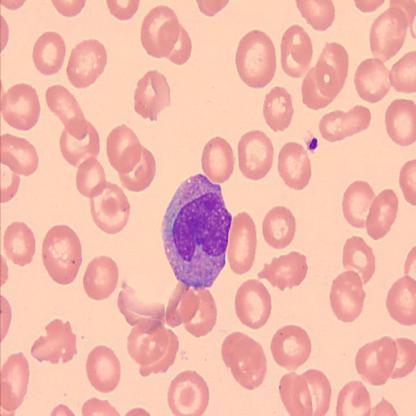Monocyte: (158, 171, 235, 294)
